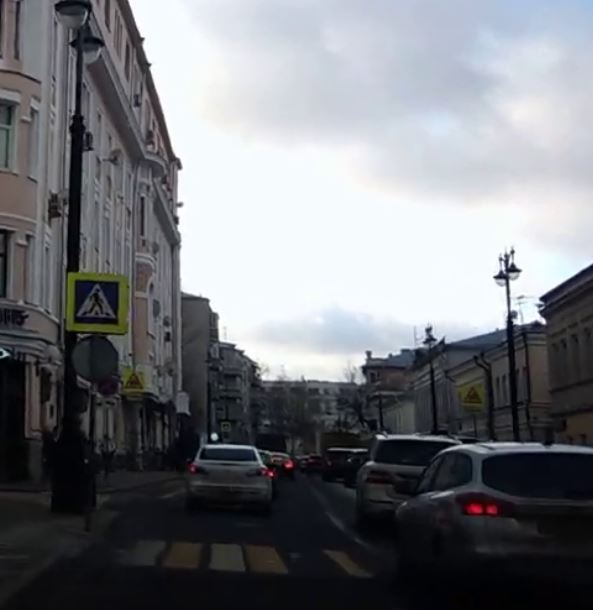Yaya Gecidi: (77, 276, 120, 325)
